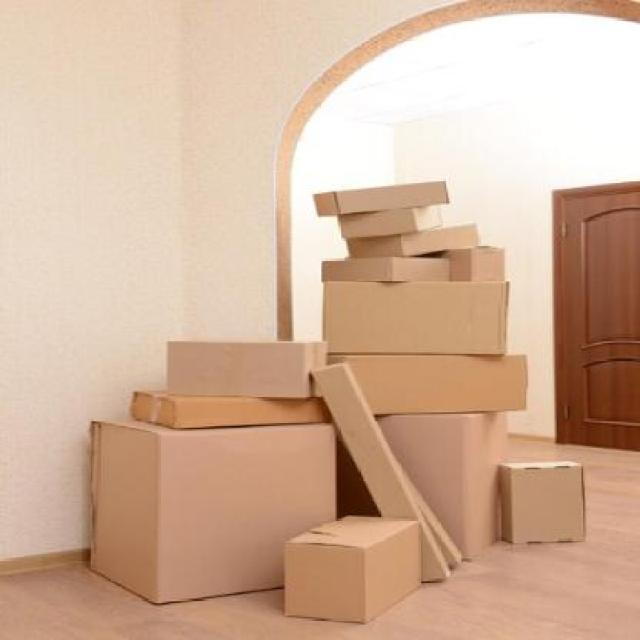BoxFace: (158, 426, 336, 603), (312, 364, 448, 584), (380, 414, 474, 562), (322, 281, 504, 354), (338, 354, 528, 416), (165, 339, 308, 401), (284, 542, 366, 624), (511, 464, 586, 544), (175, 398, 331, 428), (336, 178, 449, 214), (402, 222, 480, 256), (338, 208, 418, 240), (320, 258, 394, 280), (469, 248, 506, 282)
